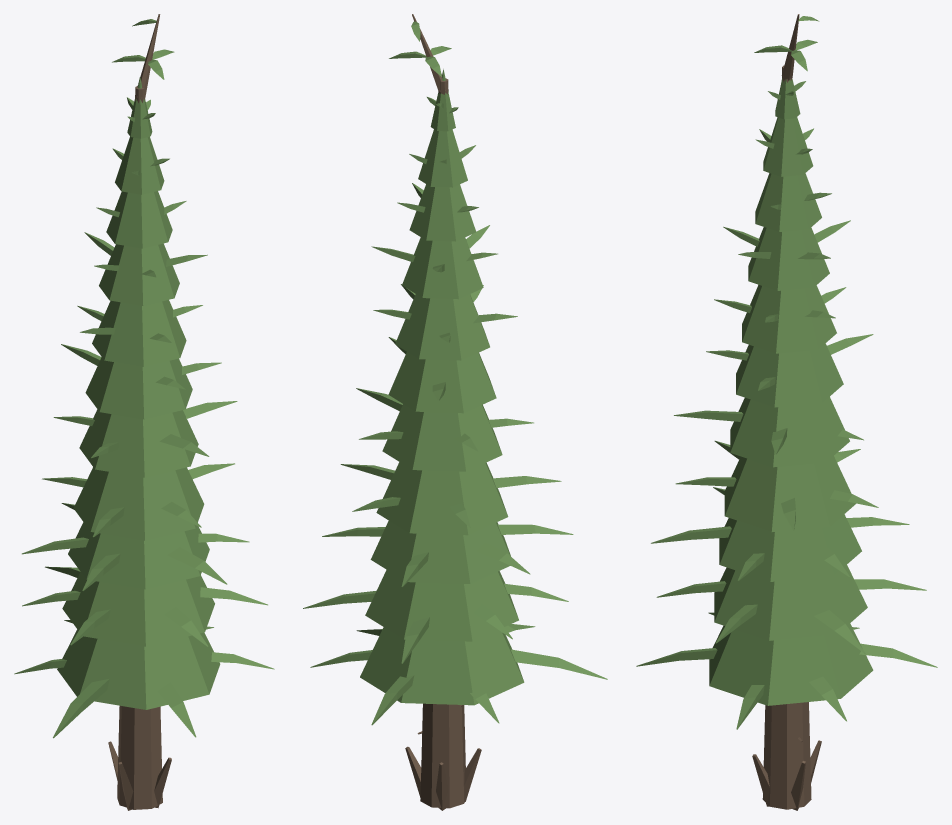
Rendered from tree_fir.glb.
3 renders of one model, left to right at view 1: azimuth 30°, elevation 25°; view 2: azimuth 150°, elevation 25°; view 3: azimuth 270°, elevation 25°, orthographic. The views are drawn at different scales.
Visible parts, largest first — view 1: tree_fir; view 2: tree_fir; view 3: tree_fir.
Boxes of the visible parts, bbox=[...] form: tree_fir: bbox=[14, 14, 274, 810]; tree_fir: bbox=[303, 14, 607, 810]; tree_fir: bbox=[636, 14, 937, 810].
Bounding box in the file's own units: 5.05 × 15.96 × 5.45.
